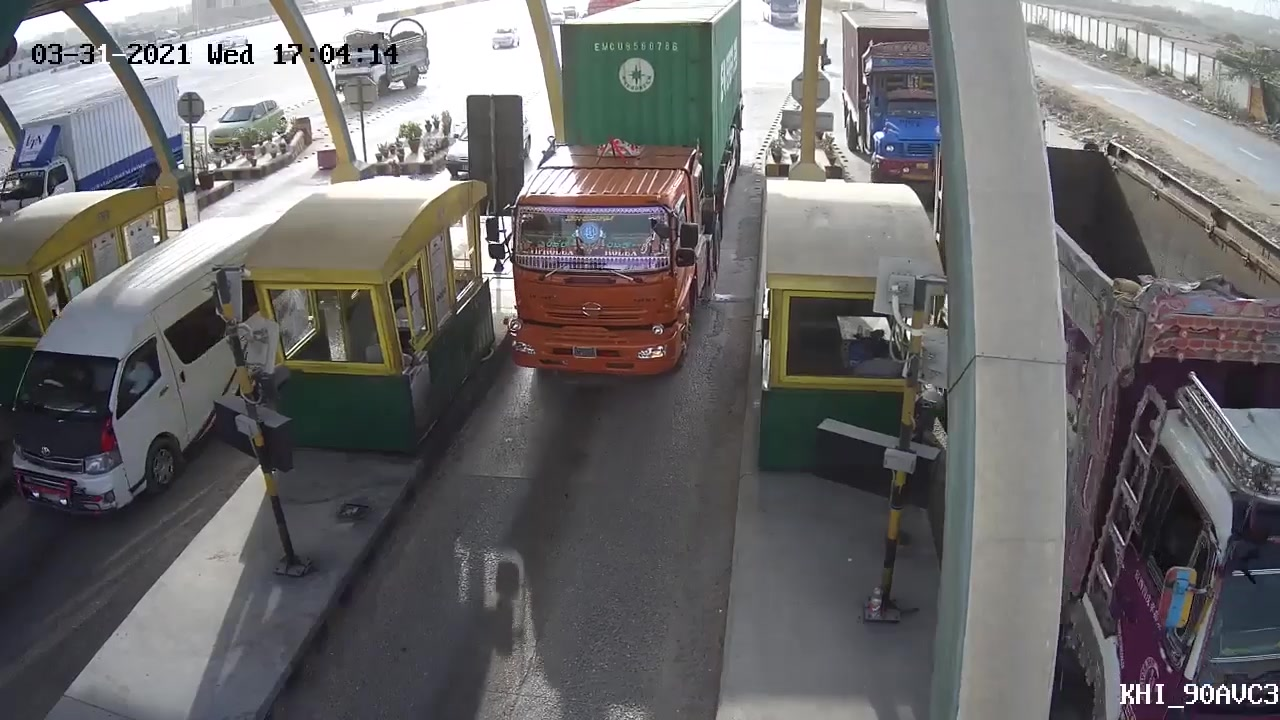F6: (492, 11, 748, 394)
